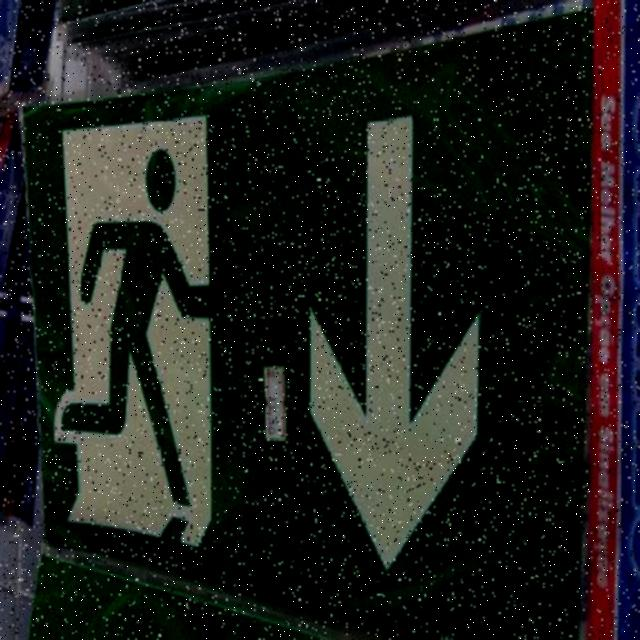emergency_exit: (3, 0, 636, 640)
